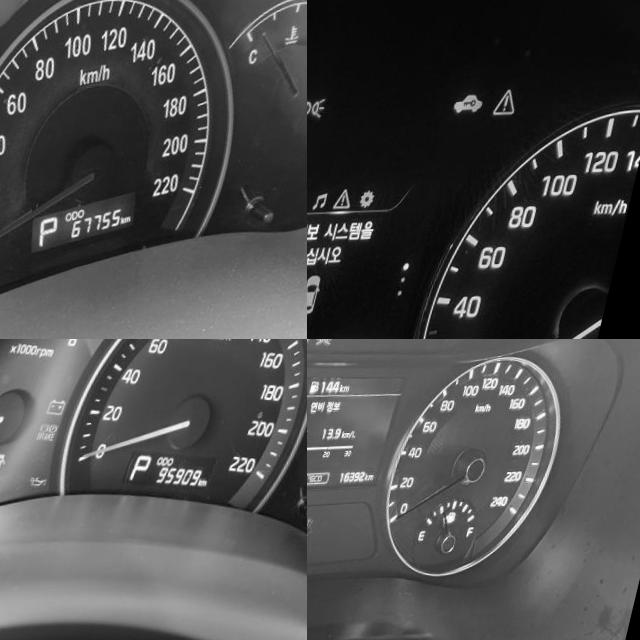Central Warning lamp: (501, 92, 528, 121), (344, 191, 367, 214)
Doors: (8, 453, 27, 473)
Low beam: (307, 339, 320, 349)
SideLamp: (307, 98, 335, 123), (322, 339, 343, 349)
